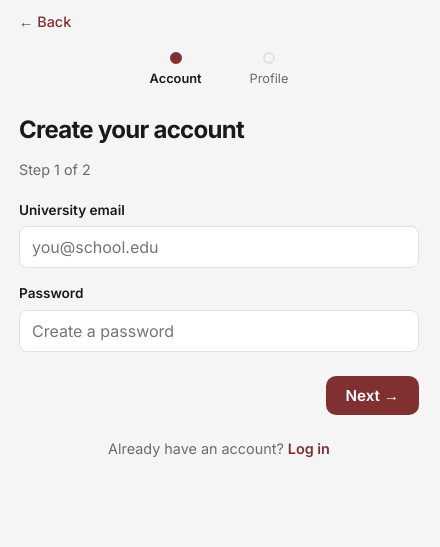
Test case: SignupPage › blocks step 1 for a non-five-colleges email
Type "user@gmail.com" into the field labelled "University email" at (219, 247), box [19,226,419,268]
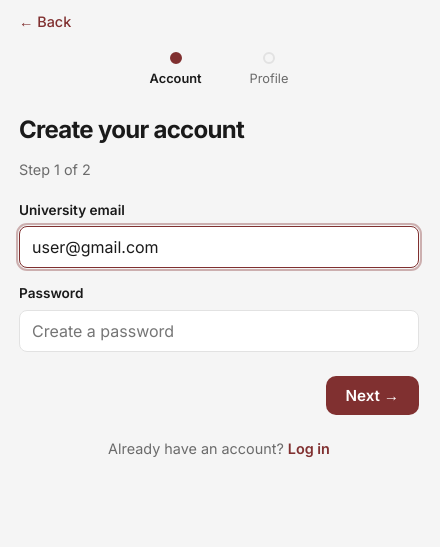
Type "StrongPass123" into the password field labelled "Password" at (219, 331), box [19,310,419,352]
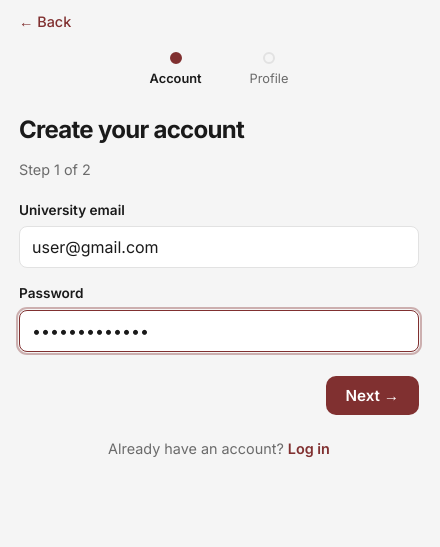
Click the button "Next →" at (372, 396), box [326,376,419,415]
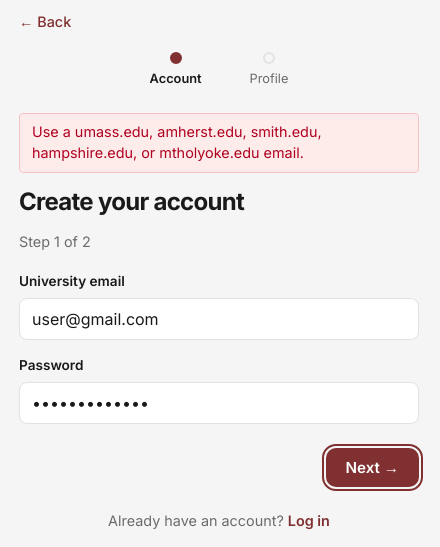
Now the message reads "Use a umass.edu, amherst.edu, smith.edu, hampshire.edu, or mtholyoke.edu email.", box [32,123,322,161]
